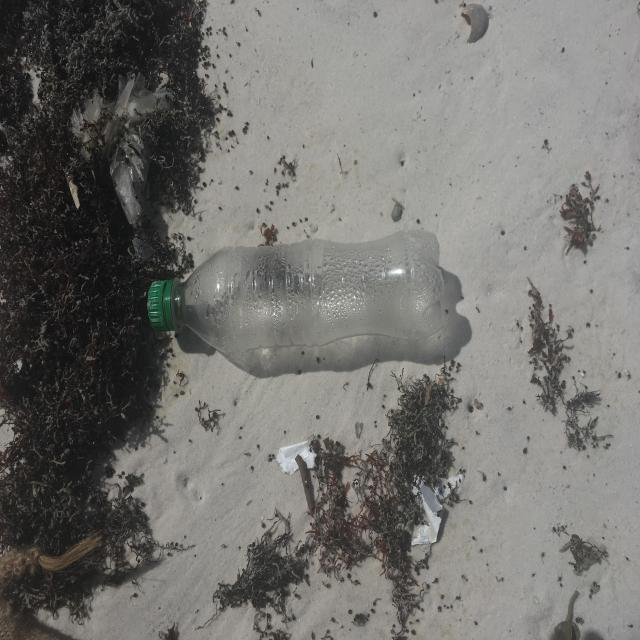litter: (193, 287, 467, 412), (179, 92, 230, 165), (467, 304, 492, 361), (322, 164, 365, 197)
